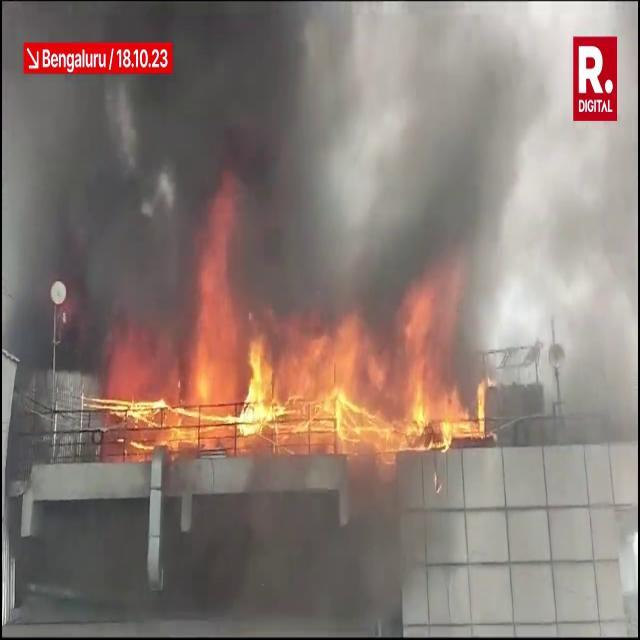Fire: (109, 296, 491, 452)
Smoke: (6, 3, 362, 335), (358, 0, 628, 413)
